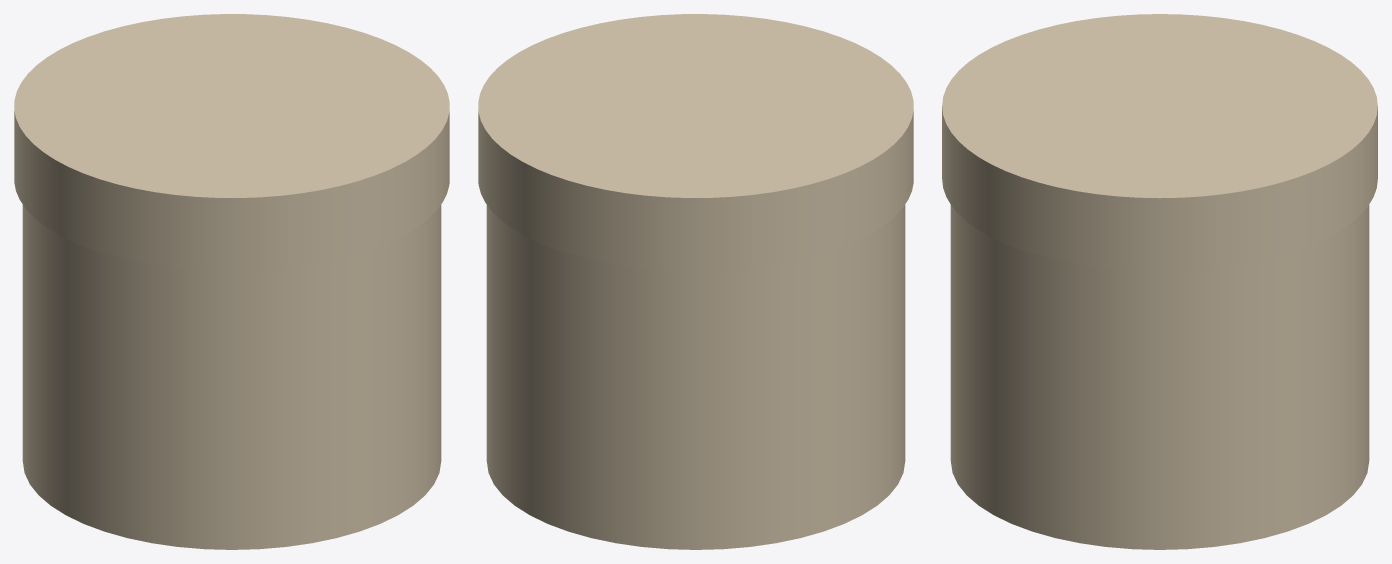
File: wh-linen-pouffe.glb
3 views of the same model, side by side, from view 1: azimuth 30°, elevation 25°; view 2: azimuth 150°, elevation 25°; view 3: azimuth 270°, elevation 25° (orthographic).
Parts seen in each view (by area): view 1: Pouffe upholstery.003; view 2: Pouffe upholstery.003; view 3: Pouffe upholstery.003.
Part boxes in pixels (x1=…): Pouffe upholstery.003: x1=14, y1=14, x2=449, y2=549; Pouffe upholstery.003: x1=478, y1=14, x2=913, y2=549; Pouffe upholstery.003: x1=942, y1=14, x2=1377, y2=549.
Size of the model in its own units: 0.5 by 0.45 by 0.5.
